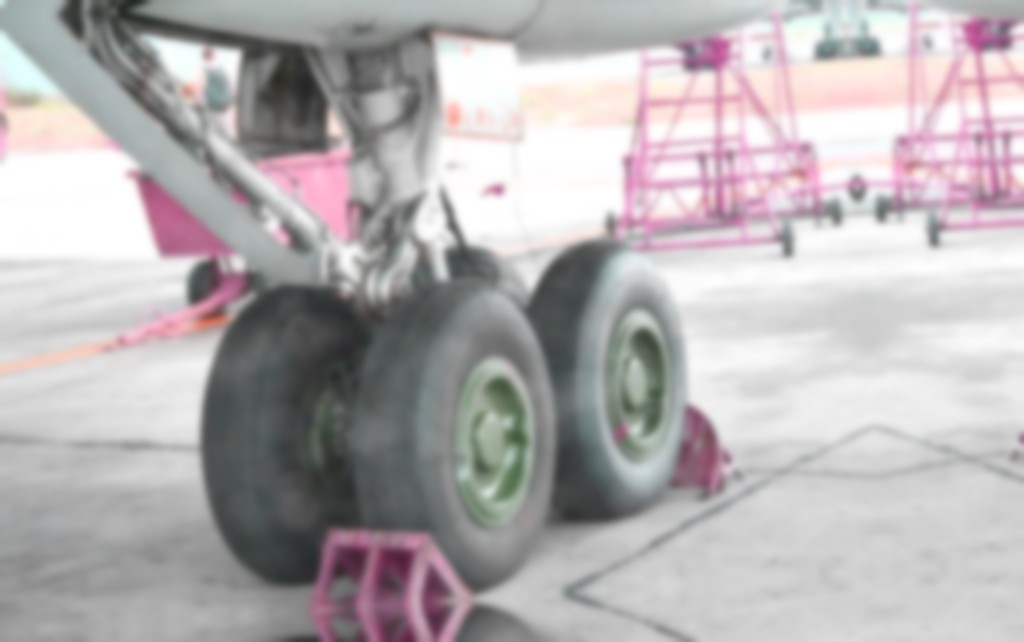chock: (301, 515, 475, 609), (664, 400, 749, 503), (307, 602, 481, 642)
wheel: (339, 272, 572, 599), (188, 280, 389, 587), (530, 233, 699, 524), (438, 241, 532, 310)
